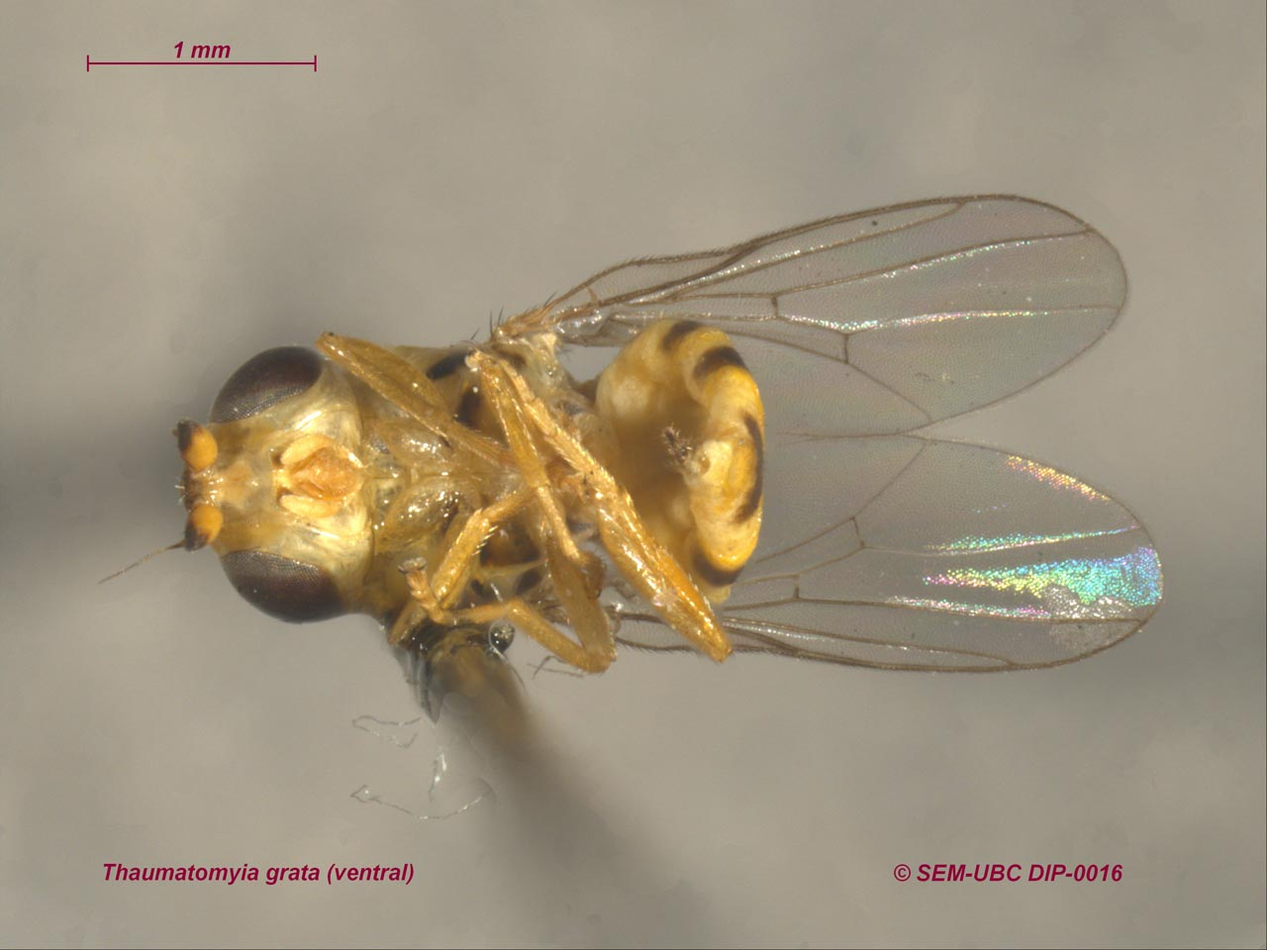Chloropidae: (102, 152, 1156, 731)
